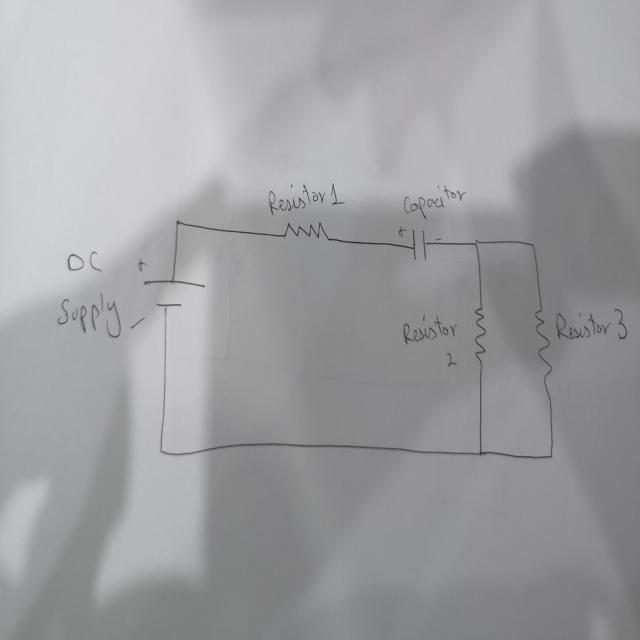capacitor: (396, 223, 445, 263)
junction: (545, 445, 556, 463), (472, 236, 481, 251), (476, 445, 485, 460), (528, 238, 537, 252), (173, 215, 181, 229), (157, 444, 164, 455)
resistor: (532, 300, 553, 390), (280, 217, 331, 245), (472, 300, 487, 364)
source: (141, 274, 207, 312)
text: (55, 287, 124, 341), (552, 306, 628, 342), (266, 181, 339, 213), (402, 185, 464, 217), (401, 314, 459, 343), (65, 247, 104, 276), (444, 348, 456, 372)
